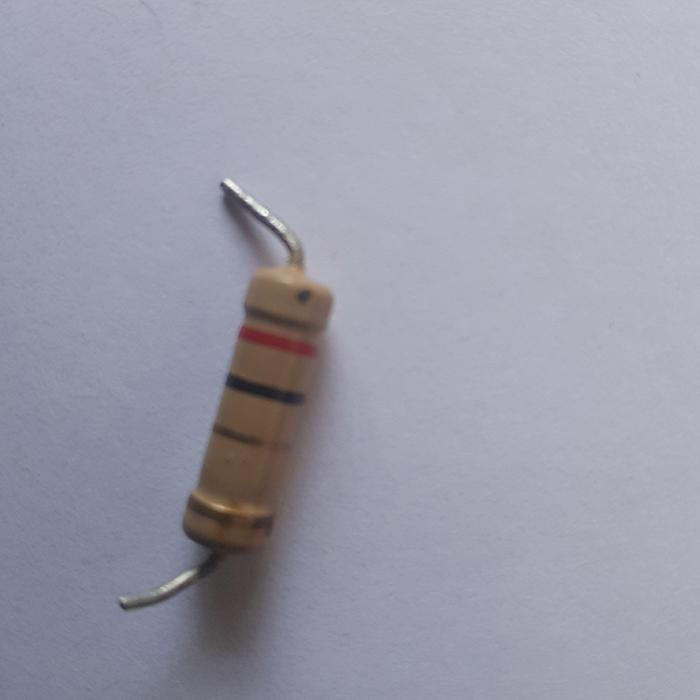resistor: (178, 269, 336, 555)
